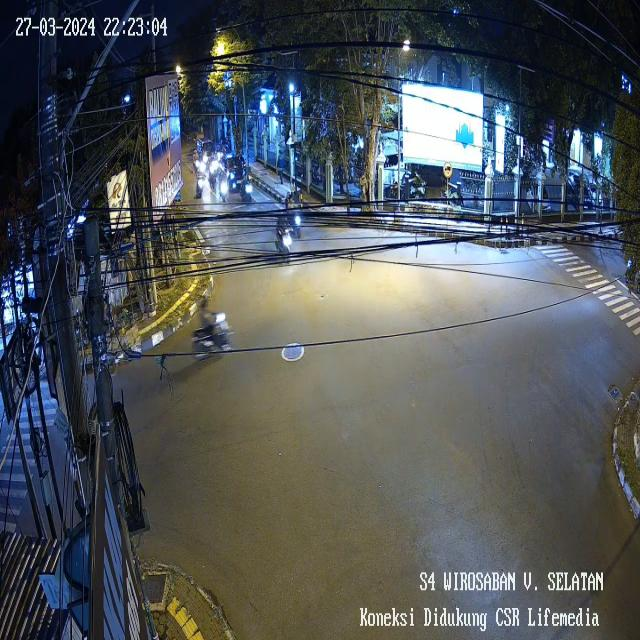car: (218, 150, 247, 192), (196, 135, 218, 168)
motorcycle: (186, 284, 236, 368), (271, 198, 294, 268), (284, 186, 305, 242), (240, 169, 253, 205), (218, 165, 228, 205), (195, 168, 204, 200), (192, 146, 200, 175), (208, 162, 216, 191), (239, 148, 247, 177), (199, 154, 207, 180), (211, 156, 219, 179), (216, 144, 223, 167), (219, 137, 223, 153)
